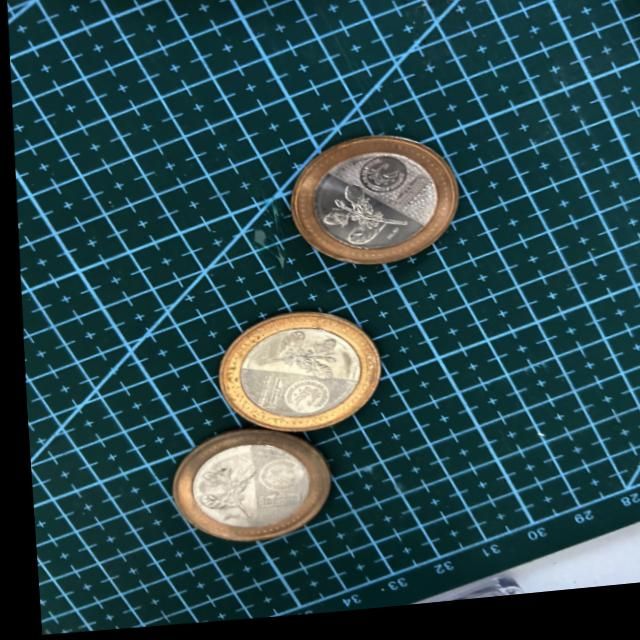20_New_Back: (318, 184, 406, 258), (245, 329, 342, 390)
